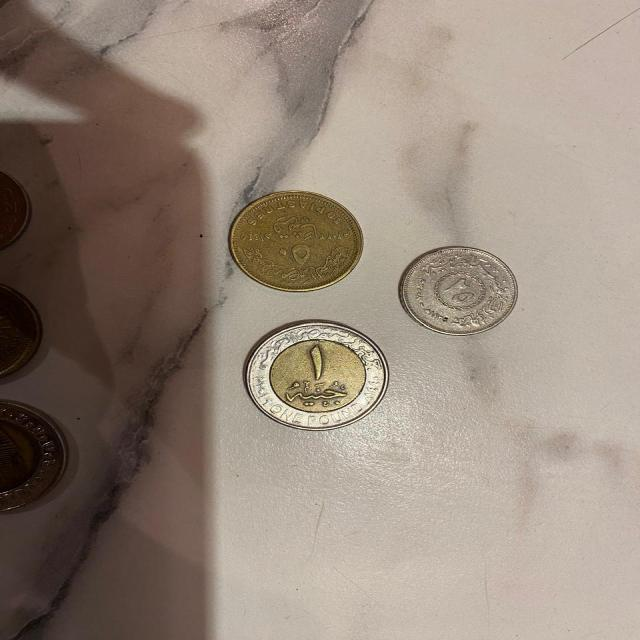Half Pound: (228, 190, 365, 291)
One Pound: (244, 321, 390, 432)
quarter pound: (401, 246, 522, 334)
